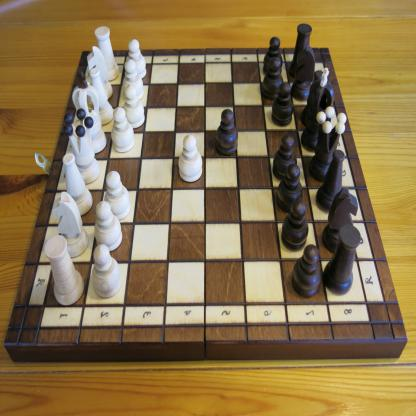black-bishop: (316, 149, 345, 213), (299, 68, 325, 127)
black-king: (300, 66, 334, 152)
black-knight: (323, 186, 358, 253), (292, 45, 316, 100)
black-pawn: (290, 244, 322, 299), (281, 200, 310, 251), (272, 133, 297, 181), (214, 108, 239, 156), (278, 163, 302, 212), (262, 56, 285, 100), (266, 79, 288, 124), (263, 36, 282, 74)
black-queen: (308, 106, 348, 182)
black-rook: (322, 223, 362, 296), (288, 22, 312, 79)
white-bishop: (61, 151, 92, 216), (90, 66, 113, 126)
white-king: (71, 70, 107, 154)
white-knight: (50, 190, 88, 260), (84, 44, 112, 102)
white-pawn: (91, 243, 122, 299), (94, 200, 123, 252), (103, 170, 131, 220), (178, 134, 202, 184), (111, 105, 135, 153), (122, 83, 145, 128), (125, 38, 147, 79), (123, 58, 144, 100)
white-queen: (63, 107, 100, 184)
white-rook: (43, 233, 84, 308), (93, 25, 120, 81)
